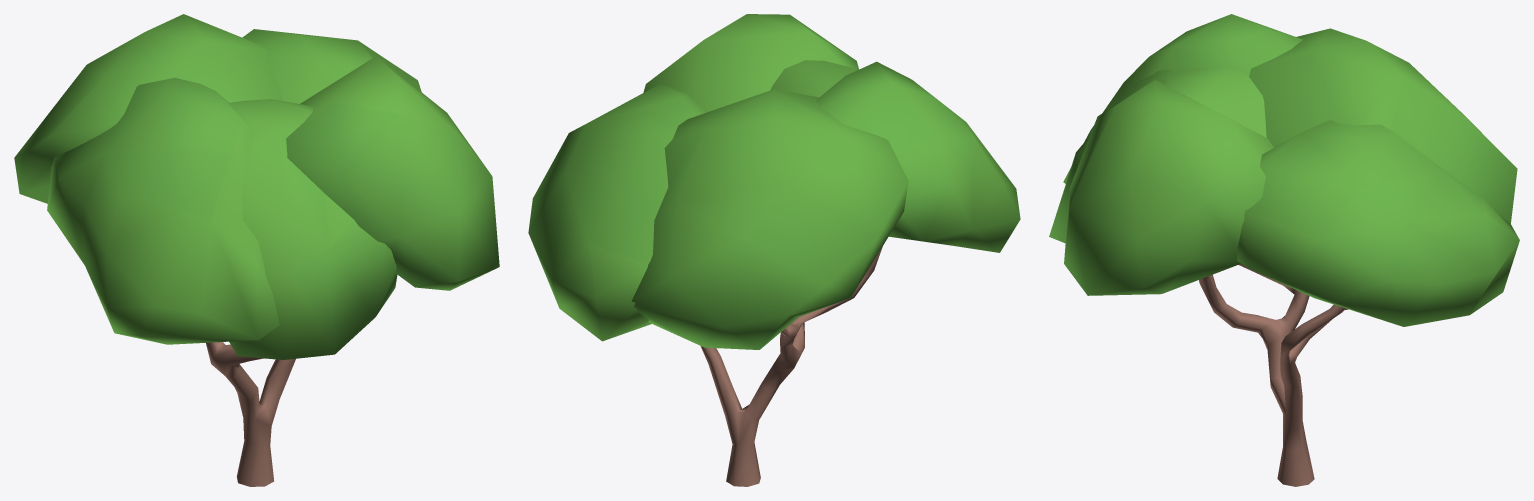
File: tree_017.glb
3 views of the same model, side by side, from view 1: azimuth 30°, elevation 25°; view 2: azimuth 150°, elevation 25°; view 3: azimuth 270°, elevation 25° (orthographic). The views are drawn at different scales.
Visible parts, largest first — view 1: tree_017; view 2: tree_017; view 3: tree_017.
Boxes of the visible parts, x1,y1,x2,y2 form: tree_017: [14, 14, 499, 486]; tree_017: [528, 14, 1020, 486]; tree_017: [1049, 14, 1519, 486].
Bounding box in the file's own units: 9.78 × 10.05 × 10.45.
1 material, 1 textured.
